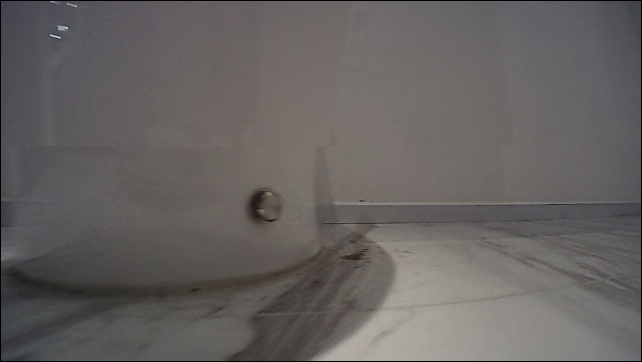toilet: (10, 11, 358, 282)
